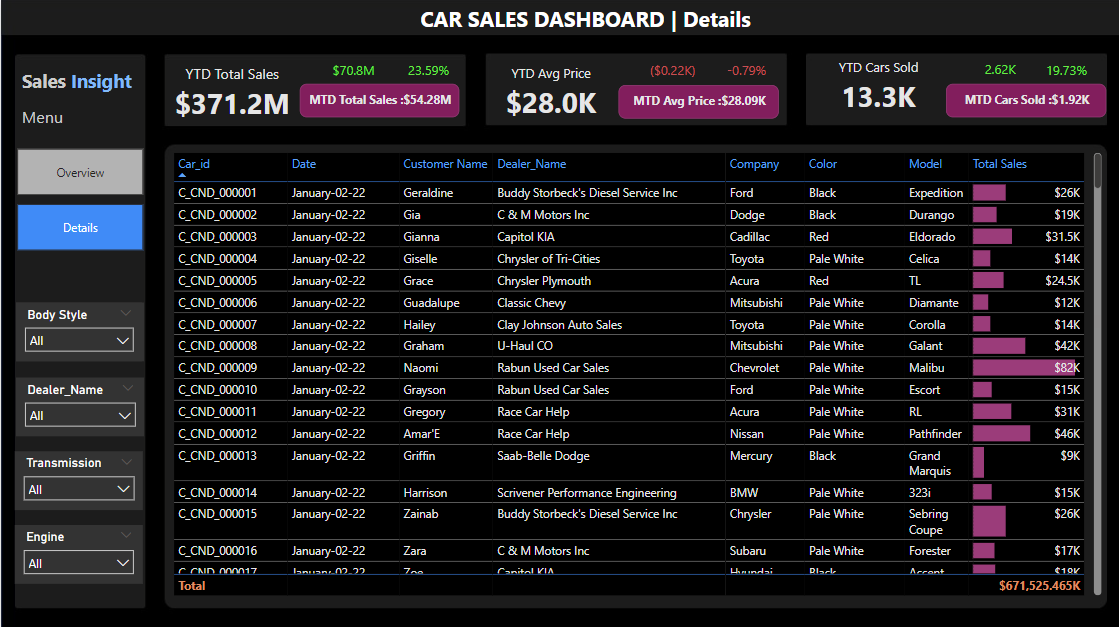

The page's visual inventory and layout, read from the dashboard file:
{"tool":"powerbi","page":{"name":"Details","canvas":[1280,720],"ordinal":1},"visuals":[{"type":"card","title":"YTD Total Sales","fields":{"Values":["car_data.YTD Total Sales"]},"box":[186.9,72.4,154.4,68.7],"z":0},{"type":"card","title":"Sales DIfference","fields":{"Values":["car_data.Sales DIfference"]},"box":[341.4,63.1,123.4,39.8],"z":1000},{"type":"card","title":"Sales DIfference","fields":{"Values":["car_data.YoY Sales Growth"]},"box":[425,63.1,126.1,39.8],"z":3000},{"type":"card","title":"MTD Total Sales","fields":{"Values":["car_data.MTD KPI"]},"box":[341.4,96,182.3,38.4],"z":4000},{"type":"card","title":"YTD Avg Price","fields":{"Values":["car_data.YTD Avg Price"]},"box":[551.2,72.4,154.4,68.7],"z":5000},{"type":"card","title":"Sales DIfference","fields":{"Values":["car_data.Avg Total Sale"]},"box":[705.5,62.7,124.2,39.8],"z":6000},{"type":"card","title":"Sales DIfference","fields":{"Values":["car_data.YOY avg Price Growth"]},"box":[789.9,62.7,124.2,39.8],"z":7000},{"type":"card","title":"MTD Total Sales","fields":{"Values":["car_data.MTD Avg Price KPI"]},"box":[705.5,96.5,183.3,38.6],"z":8000},{"type":"card","title":"YTD Cars Sold","fields":{"Values":["car_data.YTD Cars Sold"]},"box":[925,66.3,154.4,68.7],"z":9000},{"type":"card","title":"Sales DIfference","fields":{"Values":["car_data.Cars Sold Diff"]},"box":[1079.4,61.5,124.2,39.8],"z":10000},{"type":"card","title":"Sales DIfference","fields":{"Values":["car_data.YoY Car Sold Growth"]},"box":[1155.4,62.7,124.2,39.8],"z":11000},{"type":"card","title":"MTD Total Sales","fields":{"Values":["car_data.MTD Car Sold KPI"]},"box":[1079.4,95.3,183.3,38.6],"z":12000},{"type":"textbox","box":[474.4,0,464.8,61.7],"z":18000},{"type":"slicer","fields":{"Values":["car_data.Engine"]},"box":[15,600.5,146,67.2],"z":19000},{"type":"slicer","fields":{"Values":["car_data.Transmission"]},"box":[15.1,515.5,146.7,67.2],"z":20000},{"type":"slicer","fields":{"Values":["car_data.Dealer_Name"]},"box":[16.5,431.9,146.7,67.2],"z":21000},{"type":"slicer","fields":{"Values":["car_data.Body Style"]},"box":[16.5,345.5,146.7,67.2],"z":22000},{"type":"tableEx","fields":{"Values":["car_data.Car_id","car_data.Date","car_data.Customer Name","car_data.Dealer_Name","car_data.Company","car_data.Color","car_data.Model","car_data.Total Sales"]},"box":[191.4,170,1071.4,515.7],"z":22001},{"type":"slicer","fields":{"Values":["car_data.Body Style"]},"box":[17.1,345.7,144.3,67.1],"z":22002},{"type":"textbox","box":[18.6,72.9,161.4,42.9],"z":22003},{"type":"textbox","box":[18.6,115.7,84.3,42.9],"z":22004},{"type":"pageNavigator","box":[18.6,170,144.3,117.1],"z":22005}]}

Visuals, with their boxes on the page's 1280x720 design canvas (x1, y1, x2, y2). These are canvas units, not pixel positions in the 1119x627 screenshot, which may show the page scaled, cropped or inside an application window:
"YTD Total Sales" card: <bbox>187, 72, 341, 141</bbox>
"Sales DIfference" card: <bbox>341, 63, 465, 103</bbox>
"Sales DIfference" card: <bbox>425, 63, 551, 103</bbox>
"MTD Total Sales" card: <bbox>341, 96, 524, 134</bbox>
"YTD Avg Price" card: <bbox>551, 72, 706, 141</bbox>
"Sales DIfference" card: <bbox>706, 63, 830, 102</bbox>
"Sales DIfference" card: <bbox>790, 63, 914, 102</bbox>
"MTD Total Sales" card: <bbox>706, 96, 889, 135</bbox>
"YTD Cars Sold" card: <bbox>925, 66, 1079, 135</bbox>
"Sales DIfference" card: <bbox>1079, 62, 1204, 101</bbox>
"Sales DIfference" card: <bbox>1155, 63, 1280, 102</bbox>
"MTD Total Sales" card: <bbox>1079, 95, 1263, 134</bbox>
textbox: <bbox>474, 0, 939, 62</bbox>
slicer - car_data.Engine: <bbox>15, 600, 161, 668</bbox>
slicer - car_data.Transmission: <bbox>15, 516, 162, 583</bbox>
slicer - car_data.Dealer_Name: <bbox>16, 432, 163, 499</bbox>
slicer - car_data.Body Style: <bbox>16, 346, 163, 413</bbox>
tableEx - car_data.Car_id x car_data.Date: <bbox>191, 170, 1263, 686</bbox>
slicer - car_data.Body Style: <bbox>17, 346, 161, 413</bbox>
textbox: <bbox>19, 73, 180, 116</bbox>
textbox: <bbox>19, 116, 103, 159</bbox>
pageNavigator: <bbox>19, 170, 163, 287</bbox>
